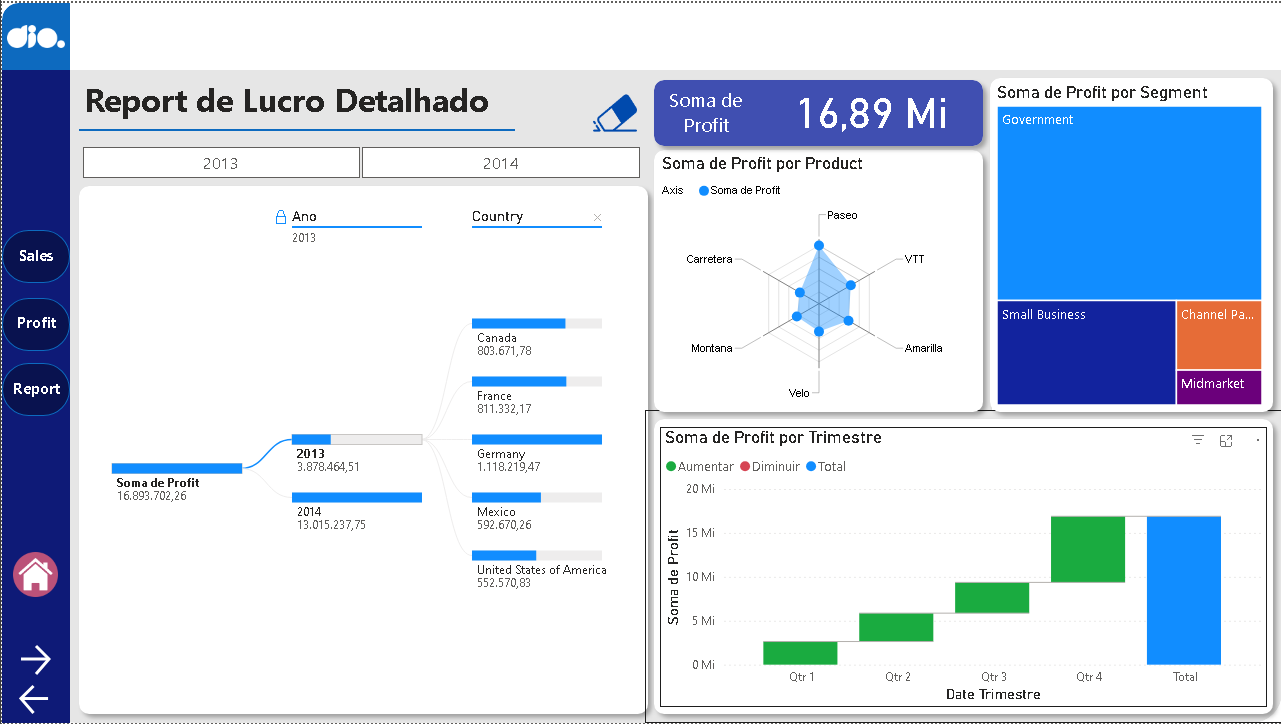

The dashboard page shown, as its layout file describes it:
{"tool":"powerbi","page":{"name":"Profit","canvas":[1280,720],"ordinal":1},"visuals":[{"type":"group","id":"g1","title":"Layout","box":[0,0,1280,720],"z":0},{"type":"shape","box":[44.4,17.8,1235.6,702.2],"z":0,"group":"g1"},{"type":"shape","title":"Forma","box":[979,66,301,352],"z":0,"group":"g5"},{"type":"shape","title":"Forma","box":[643,138,347,280],"z":0,"group":"g4"},{"type":"shape","title":"Forma","box":[68,174,587,546],"z":0,"group":"g2"},{"type":"shape","box":[0,227,68,53],"z":0,"group":"g7"},{"type":"shape","title":"Forma2.1","box":[643,407,637,313],"z":0,"group":"g3"},{"type":"shape","box":[67.8,0,1212.2,66.7],"z":1000,"group":"g1"},{"type":"textbox","box":[77,68,417,60],"z":1000},{"type":"shape","box":[643,68,347,84],"z":1000,"group":"g6"},{"type":"treemap","fields":{"Values":["Sum(financials.Profit)"],"Group":["financials.Segment"]},"box":[990,79,275,328],"z":1000,"group":"g5"},{"type":"RadarChart1446119667547","fields":{"Y":["Sum(financials.Profit)"],"Category":["financials.Product"]},"box":[655,150,324,255],"z":1000,"group":"g4"},{"type":"decompositionTreeVisual","fields":{"Analyze":["Sum(financials.Profit)"],"ExplainBy":["financials.Date.Variation.Hierarquia de datas.Ano","financials.Country"]},"box":[80,188,563,532],"z":1000,"group":"g2"},{"type":"textbox","title":"texto - profit","box":[0,237,70,35],"z":1000,"group":"g7"},{"type":"waterfallChart","fields":{"Y":["Sum(financials.Profit)"],"Category":["financials.Date.Variation.Hierarquia de datas.Trimestre"]},"box":[657.9,423.7,607.1,280.7],"z":1000,"group":"g3"},{"type":"textbox","box":[658,79,92,61],"z":1250,"group":"g6"},{"type":"card","fields":{"Values":["Sum(financials.Profit)"]},"box":[753,68,231,76],"z":1500,"group":"g6"},{"type":"shape","box":[0,45.5,68.2,674.5],"z":2000,"group":"g1"},{"type":"slicer","fields":{"Values":["financials.Date.Variation.Hierarquia de datas.Ano"]},"box":[55.5,137.3,606.4,42.7],"z":2000},{"type":"actionButton","box":[0,224,68,58],"z":2000,"group":"g7"},{"type":"shape","box":[0,0,67.8,66.7],"z":3000,"group":"g1"},{"type":"group","id":"g2","title":"Arvore hierarquica","box":[68,174,587,546],"z":3000},{"type":"shape","box":[77,116,436,22],"z":4000,"group":"g1"},{"type":"group","id":"g3","title":"Cascata","box":[643,407,637,313],"z":4000},{"type":"image","title":"logo DIO","box":[0,0,67.8,66.7],"z":5000,"group":"g1"},{"type":"group","id":"g4","title":"Radar","box":[643,138,347,280],"z":5000},{"type":"actionButton","box":[13,637,42,40],"z":5500,"group":"g1"},{"type":"group","id":"g5","title":"Tree","box":[979,66,301,352],"z":6000},{"type":"actionButton","box":[12.7,677.3,42.3,39.1],"z":6000,"group":"g1"},{"type":"group","id":"g6","title":"Cartão","box":[643,68,347,84],"z":7000},{"type":"image","title":"Botão Clean","box":[586,82,54,55],"z":8000},{"type":"image","box":[0,544,68,55],"z":9000},{"type":"group","id":"g7","title":"Grupo 1","box":[0,224,70,58],"z":10000},{"type":"group","id":"g8","title":"Grupo 2","box":[0,295,70,58],"z":11000},{"type":"shape","box":[0,295,68,53],"z":11000,"group":"g8"},{"type":"group","id":"g9","title":"Grupo 3","box":[0,357,70,58],"z":12000},{"type":"shape","box":[0,360,68,53],"z":12000,"group":"g9"},{"type":"textbox","box":[0,370,70,35],"z":13000,"group":"g9"},{"type":"textbox","box":[0,304,70,35],"z":14000,"group":"g8"},{"type":"actionButton","box":[0,295,68,58],"z":14500,"group":"g8"},{"type":"actionButton","box":[1,357,68,58],"z":16004,"group":"g9"}]}

Visuals, with their boxes on the page's 1280x720 design canvas (x1, y1, x2, y2). These are canvas units, not pixel positions in the 1281x724 screenshot, which may show the page scaled, cropped or inside an application window:
"Layout" group: pyautogui.locateOnScreen(0, 0, 1280, 720)
shape: pyautogui.locateOnScreen(44, 18, 1280, 720)
"Forma" shape: pyautogui.locateOnScreen(979, 66, 1280, 418)
"Forma" shape: pyautogui.locateOnScreen(643, 138, 990, 418)
"Forma" shape: pyautogui.locateOnScreen(68, 174, 655, 720)
shape: pyautogui.locateOnScreen(0, 227, 68, 280)
"Forma2.1" shape: pyautogui.locateOnScreen(643, 407, 1280, 720)
shape: pyautogui.locateOnScreen(68, 0, 1280, 67)
textbox: pyautogui.locateOnScreen(77, 68, 494, 128)
shape: pyautogui.locateOnScreen(643, 68, 990, 152)
treemap - Sum(financials.Profit) x financials.Segment: pyautogui.locateOnScreen(990, 79, 1265, 407)
RadarChart1446119667547 - Sum(financials.Profit) x financials.Product: pyautogui.locateOnScreen(655, 150, 979, 405)
decompositionTreeVisual - Sum(financials.Profit) x financials.Date.Variation.Hierarquia de datas.Ano: pyautogui.locateOnScreen(80, 188, 643, 720)
"texto - profit" textbox: pyautogui.locateOnScreen(0, 237, 70, 272)
waterfallChart - Sum(financials.Profit) x financials.Date.Variation.Hierarquia de datas.Trimestre: pyautogui.locateOnScreen(658, 424, 1265, 704)
textbox: pyautogui.locateOnScreen(658, 79, 750, 140)
card - Sum(financials.Profit): pyautogui.locateOnScreen(753, 68, 984, 144)
shape: pyautogui.locateOnScreen(0, 46, 68, 720)
slicer - financials.Date.Variation.Hierarquia de datas.Ano: pyautogui.locateOnScreen(56, 137, 662, 180)
actionButton: pyautogui.locateOnScreen(0, 224, 68, 282)
shape: pyautogui.locateOnScreen(0, 0, 68, 67)
"Arvore hierarquica" group: pyautogui.locateOnScreen(68, 174, 655, 720)
shape: pyautogui.locateOnScreen(77, 116, 513, 138)
"Cascata" group: pyautogui.locateOnScreen(643, 407, 1280, 720)
"logo DIO" image: pyautogui.locateOnScreen(0, 0, 68, 67)
"Radar" group: pyautogui.locateOnScreen(643, 138, 990, 418)
actionButton: pyautogui.locateOnScreen(13, 637, 55, 677)
"Tree" group: pyautogui.locateOnScreen(979, 66, 1280, 418)
actionButton: pyautogui.locateOnScreen(13, 677, 55, 716)
"Cartão" group: pyautogui.locateOnScreen(643, 68, 990, 152)
"Botão Clean" image: pyautogui.locateOnScreen(586, 82, 640, 137)
image: pyautogui.locateOnScreen(0, 544, 68, 599)
"Grupo 1" group: pyautogui.locateOnScreen(0, 224, 70, 282)
"Grupo 2" group: pyautogui.locateOnScreen(0, 295, 70, 353)
shape: pyautogui.locateOnScreen(0, 295, 68, 348)
"Grupo 3" group: pyautogui.locateOnScreen(0, 357, 70, 415)
shape: pyautogui.locateOnScreen(0, 360, 68, 413)
textbox: pyautogui.locateOnScreen(0, 370, 70, 405)
textbox: pyautogui.locateOnScreen(0, 304, 70, 339)
actionButton: pyautogui.locateOnScreen(0, 295, 68, 353)
actionButton: pyautogui.locateOnScreen(1, 357, 69, 415)
